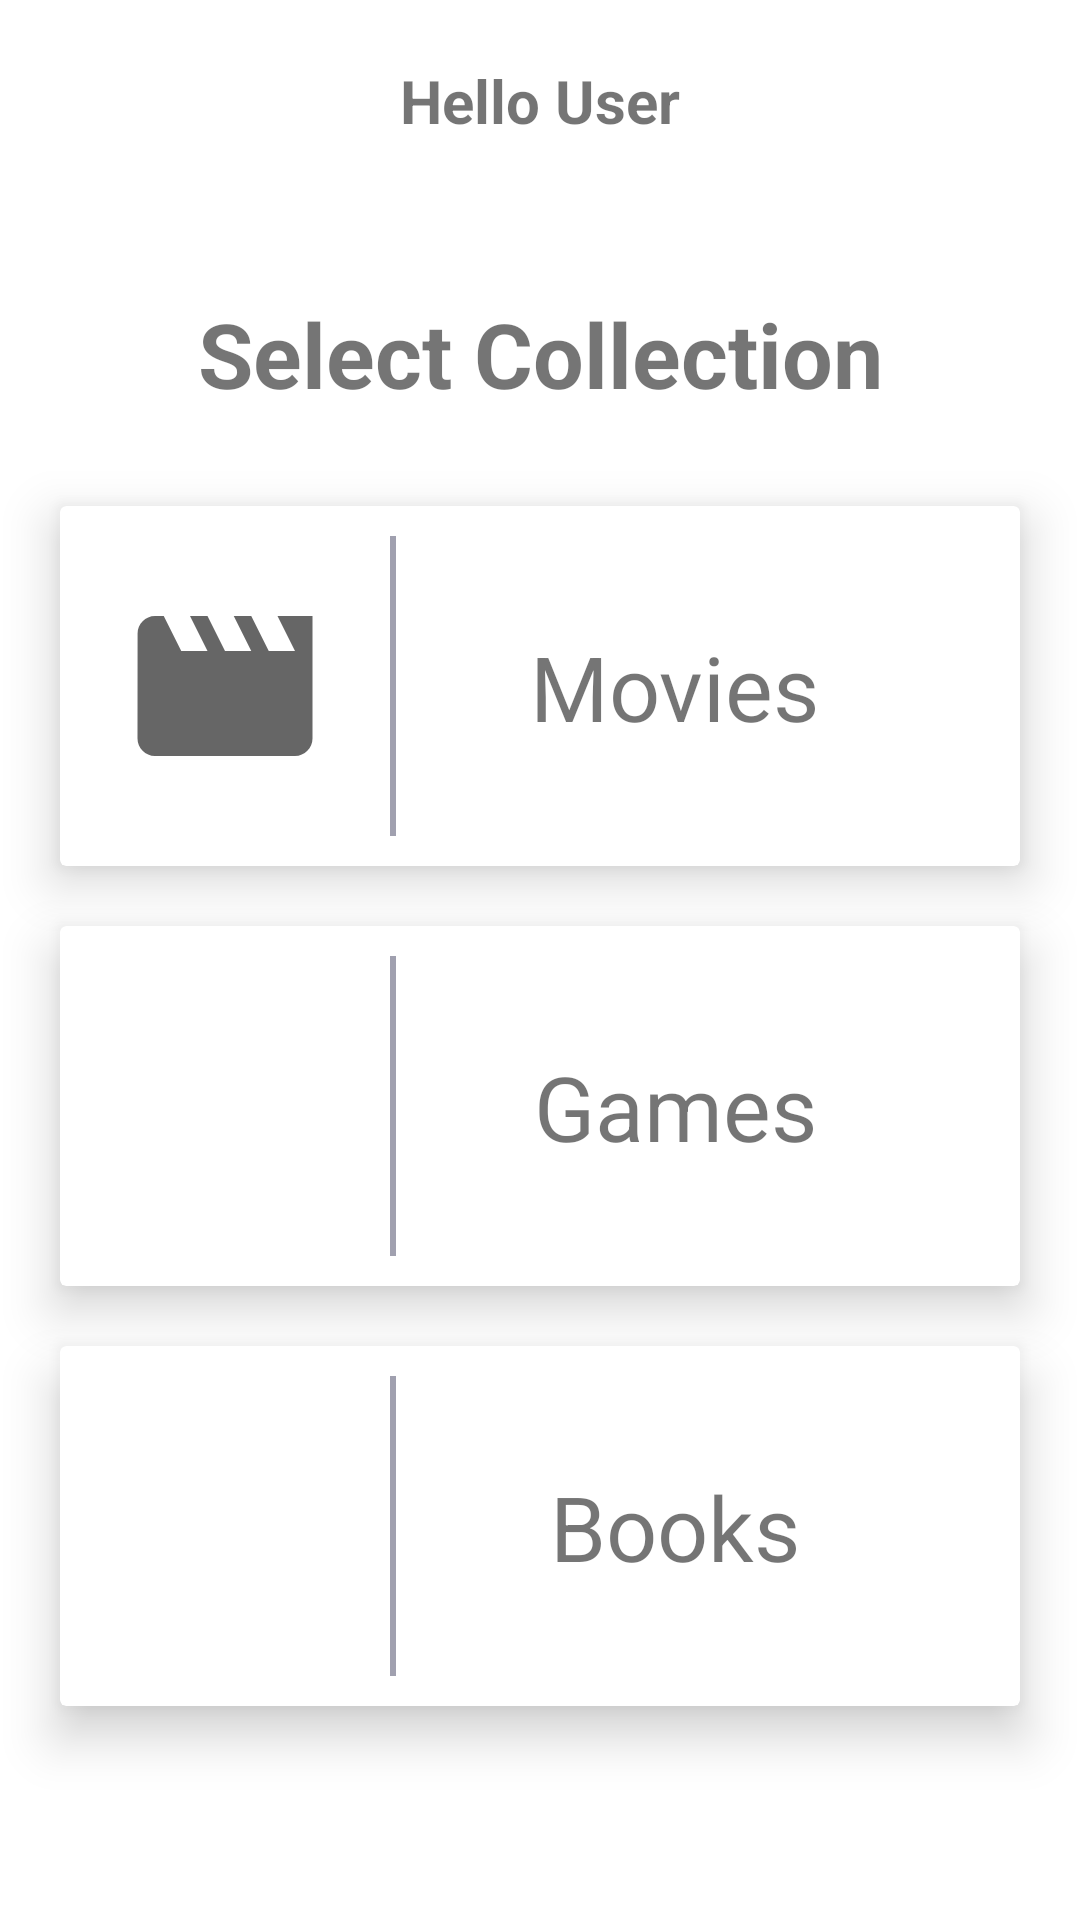

Where to tap for icons on this 1080*1920 app screen, as (x=x, y=y):
movie: (x=225, y=686)
